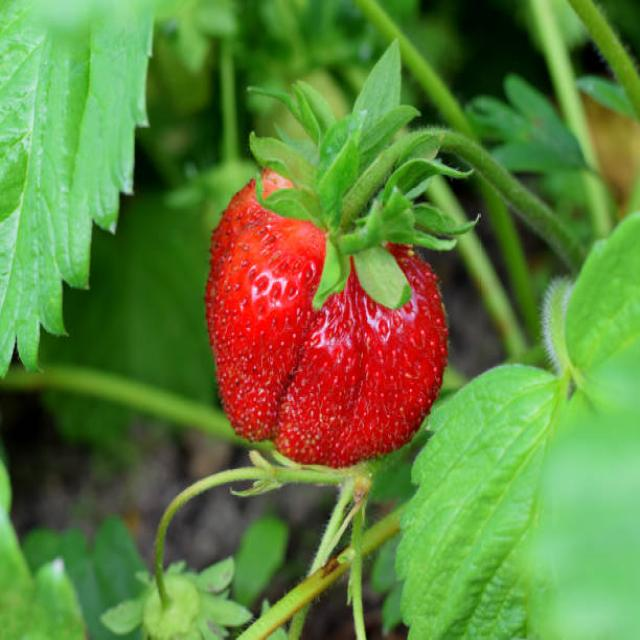Healthy Fruit: (206, 174, 450, 466)
